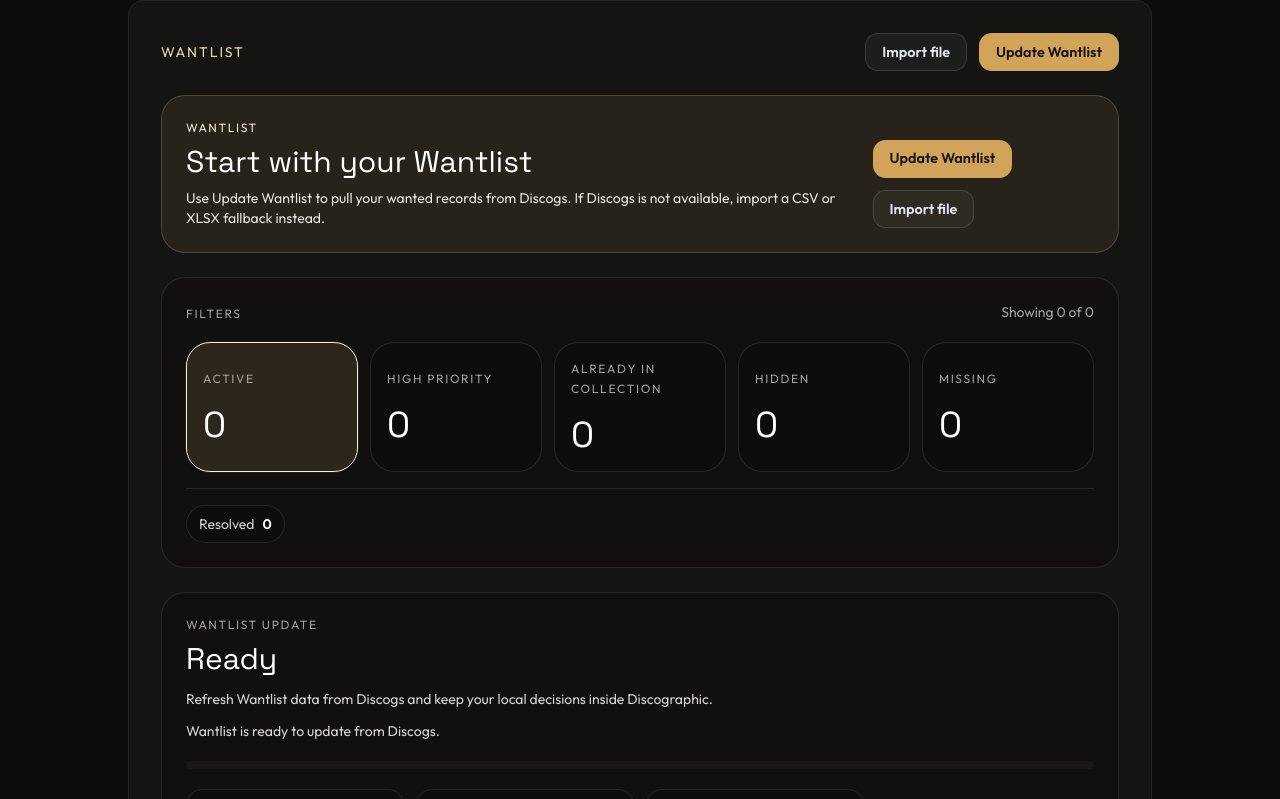
it: Radar page › runs a unified Radar update and shows the refreshed Wantlist result with the latest Radar list
Click the 1st button "Update Wantlist" at (1049, 52), box 979,33 -> 1119,72
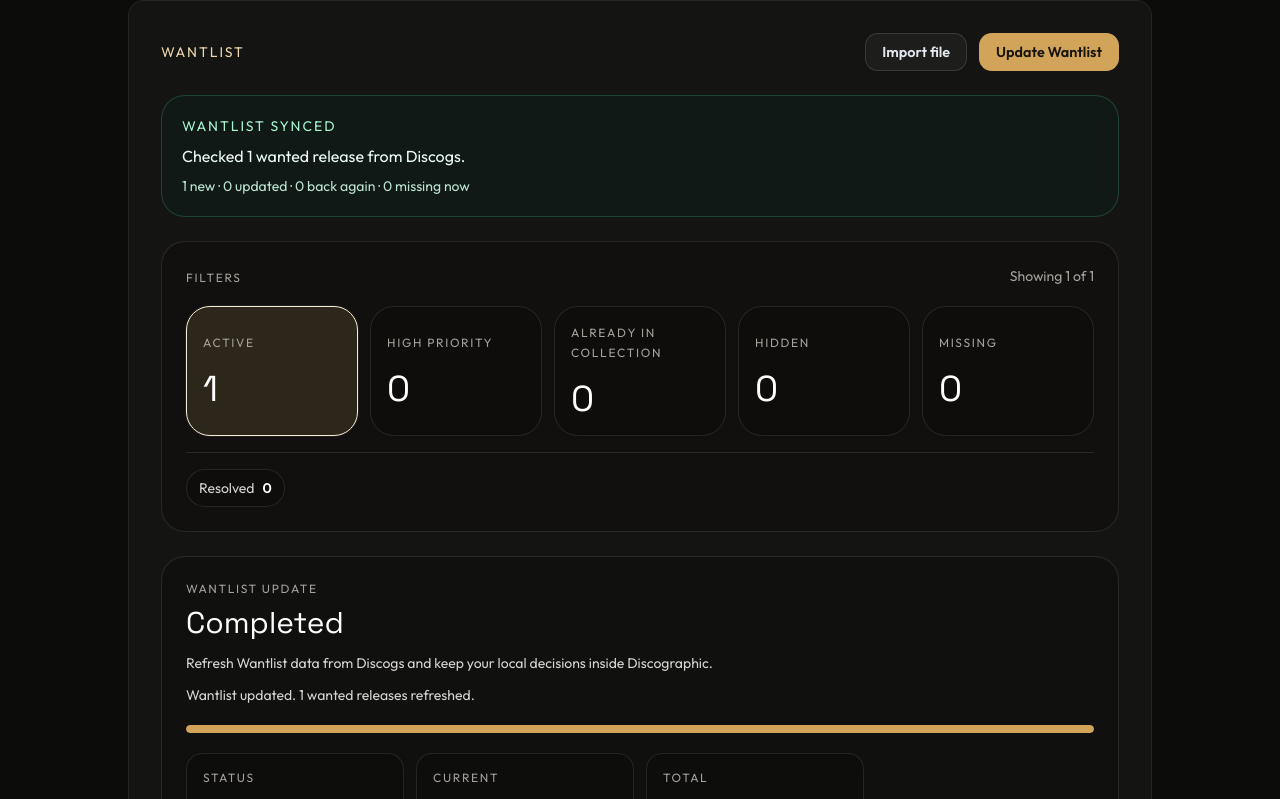
Now the text "Wantlist synced" is shown, box 182,118 -> 336,136
Now the text "Checked 1 wanted release from Discogs." is shown, box 182,146 -> 465,166
Now the text "1 new · 0 updated · 0 back again · 0 missing now" is shown, box 182,178 -> 470,196
